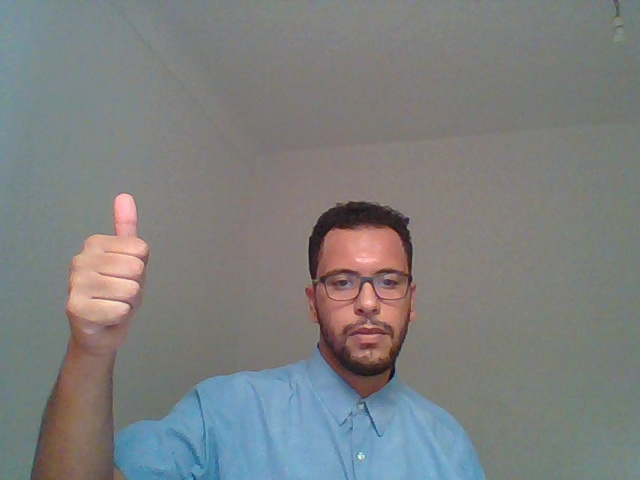ok: (31, 164, 173, 437)
